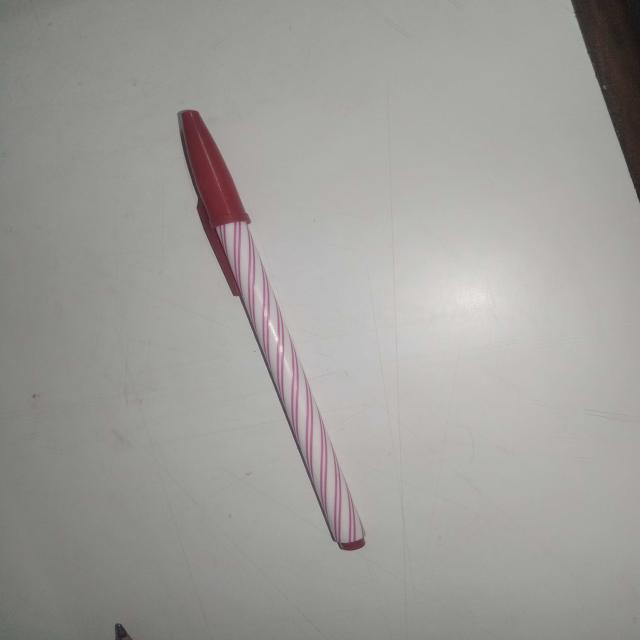pen_pencil: (105, 70, 407, 574)
